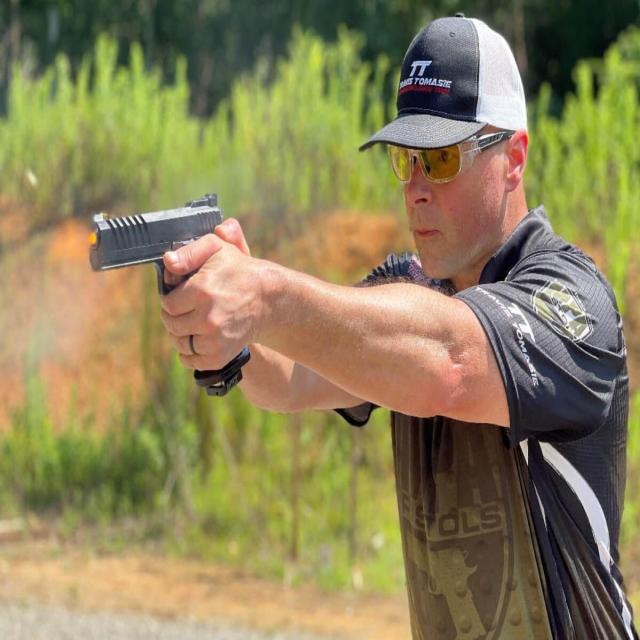gun: (89, 194, 226, 296), (194, 348, 252, 399)
